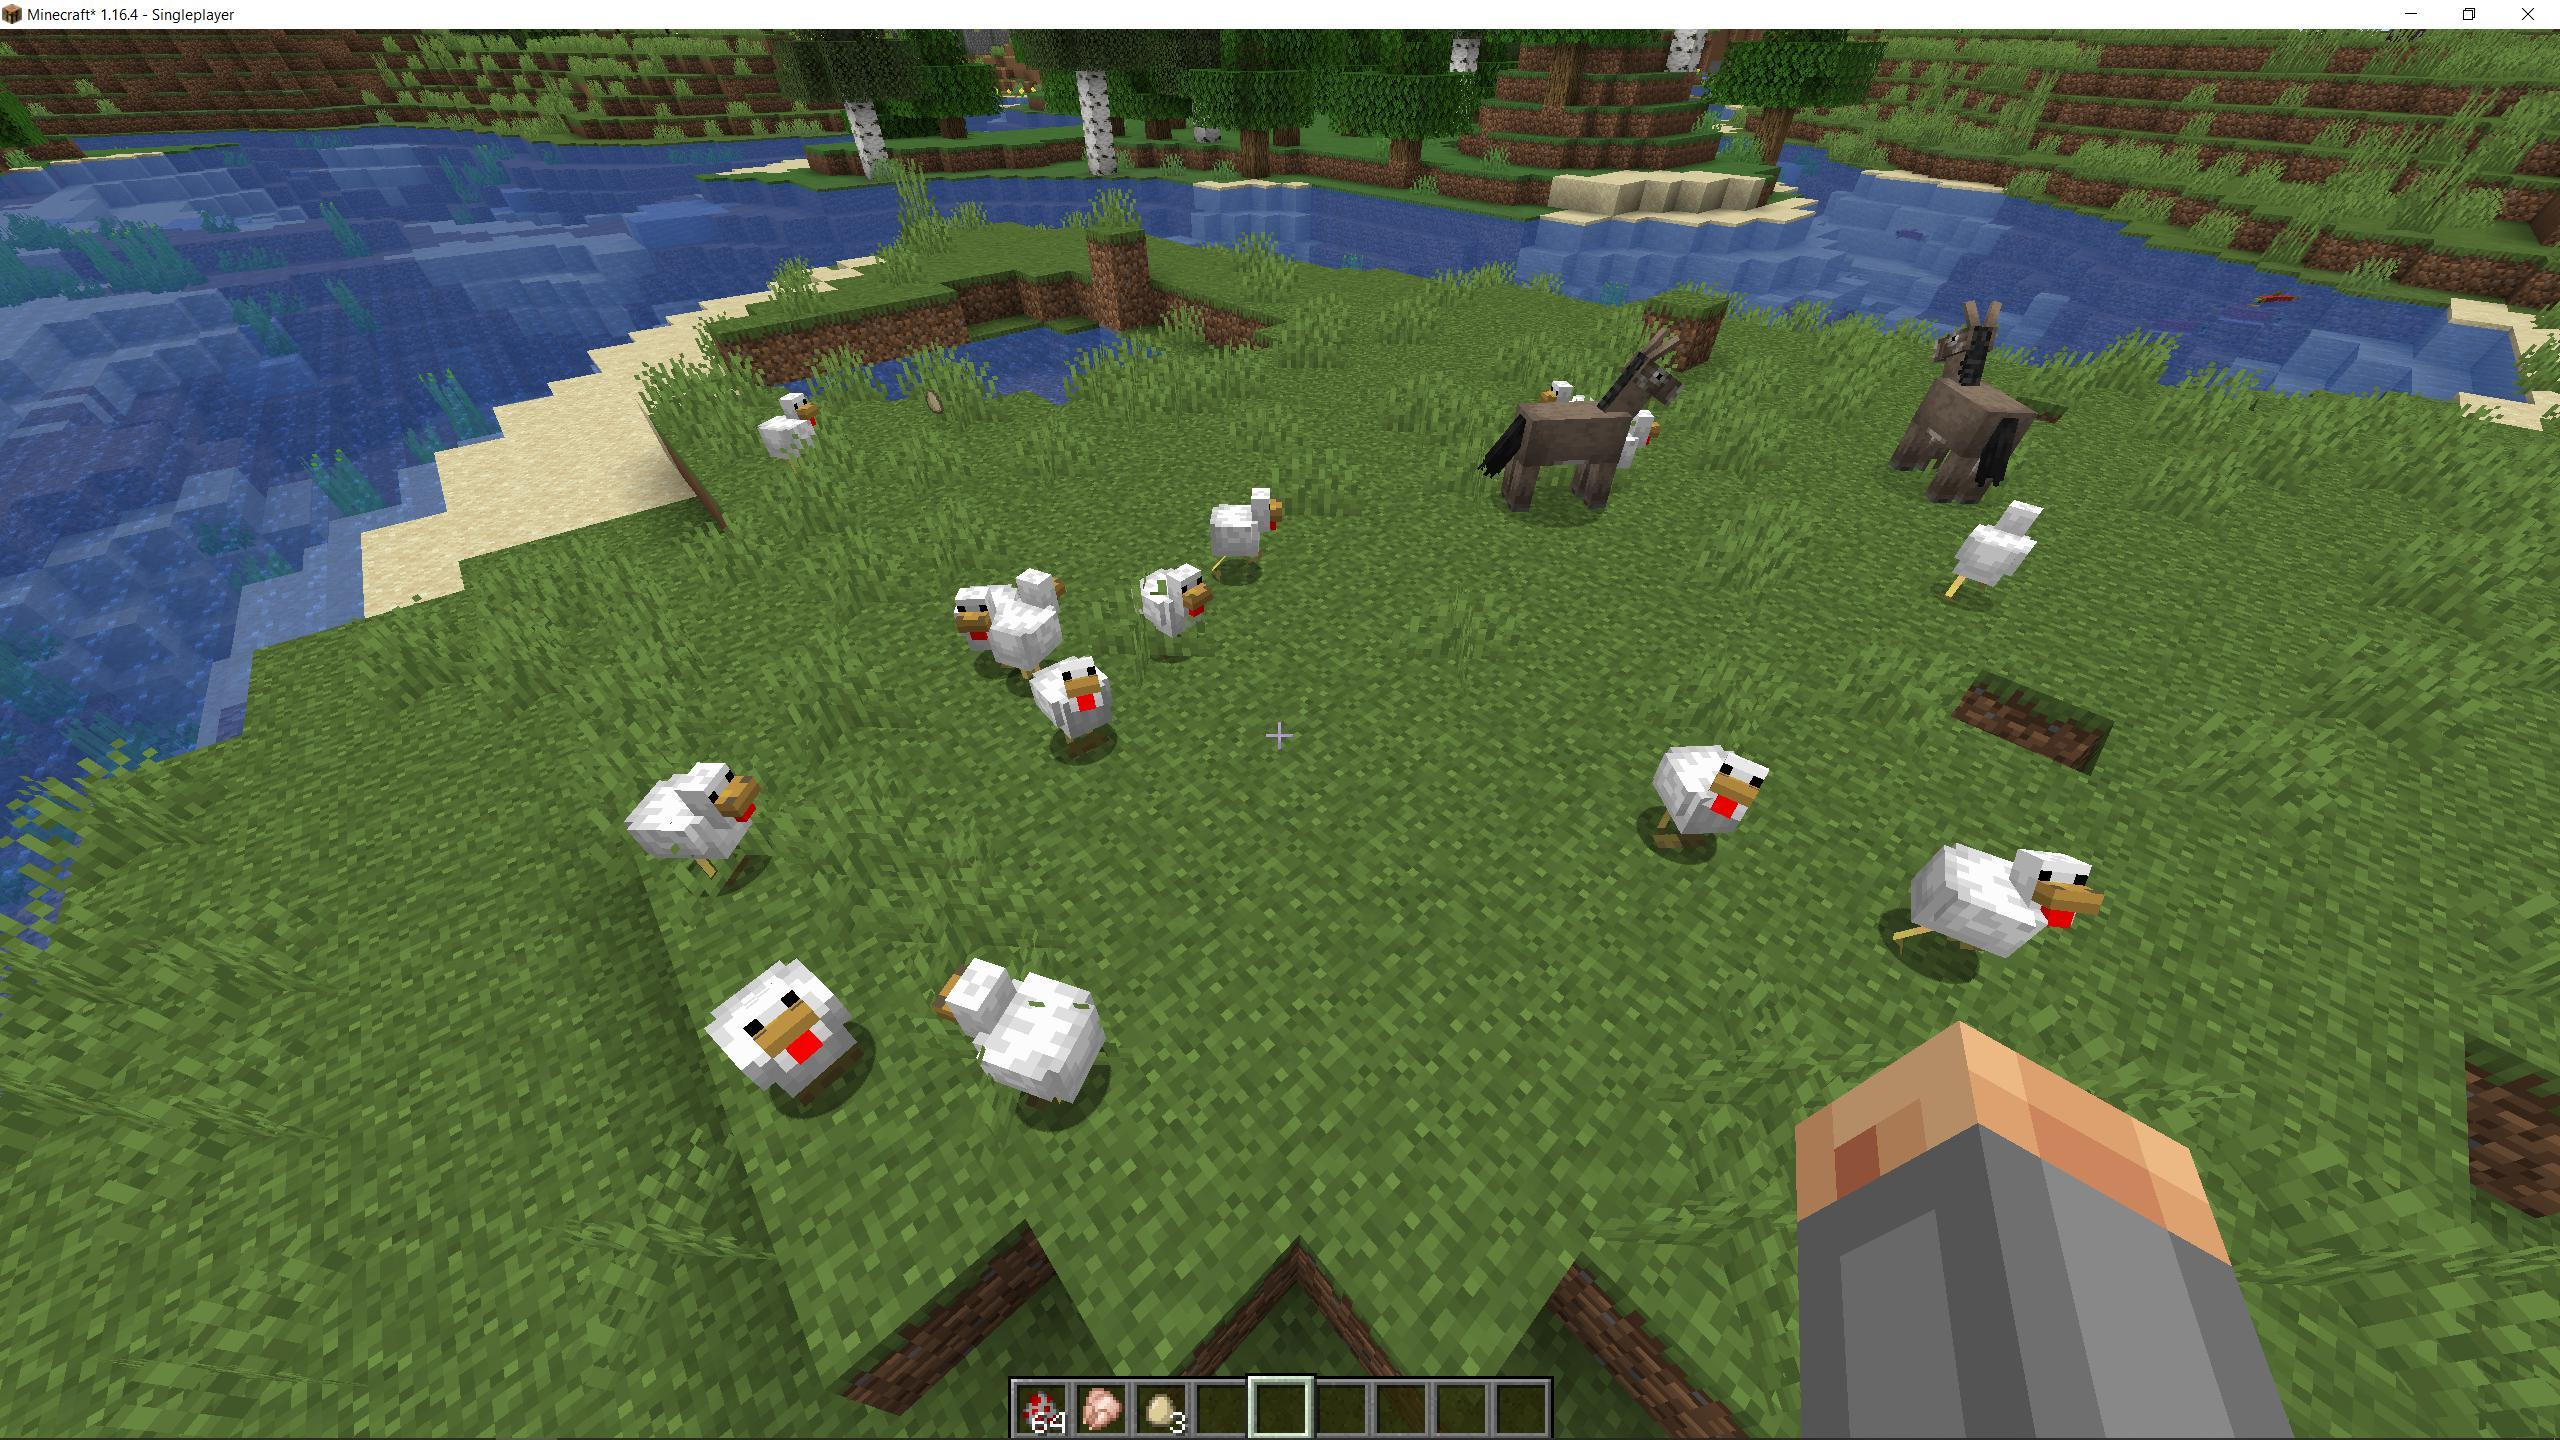chicken: (935, 942, 1116, 1113), (1881, 839, 2110, 971), (702, 942, 856, 1111), (624, 753, 760, 891), (1647, 726, 1778, 865), (1023, 654, 1122, 753), (1134, 566, 1218, 652)
